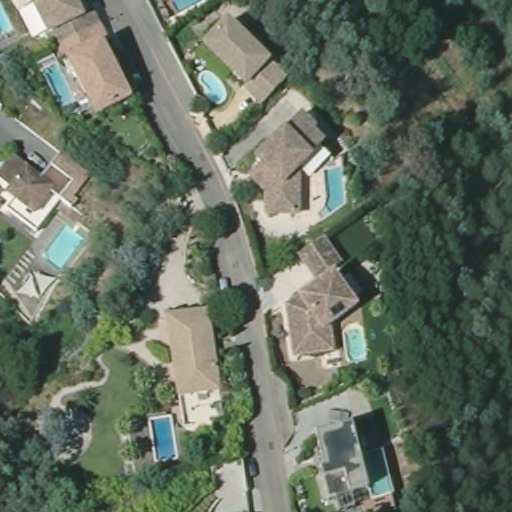pool: (363, 448, 396, 496), (47, 227, 84, 269), (148, 412, 178, 462), (46, 61, 74, 111), (322, 165, 347, 217), (341, 323, 368, 364), (197, 68, 227, 103), (168, 1, 206, 15), (1, 1, 13, 38)
